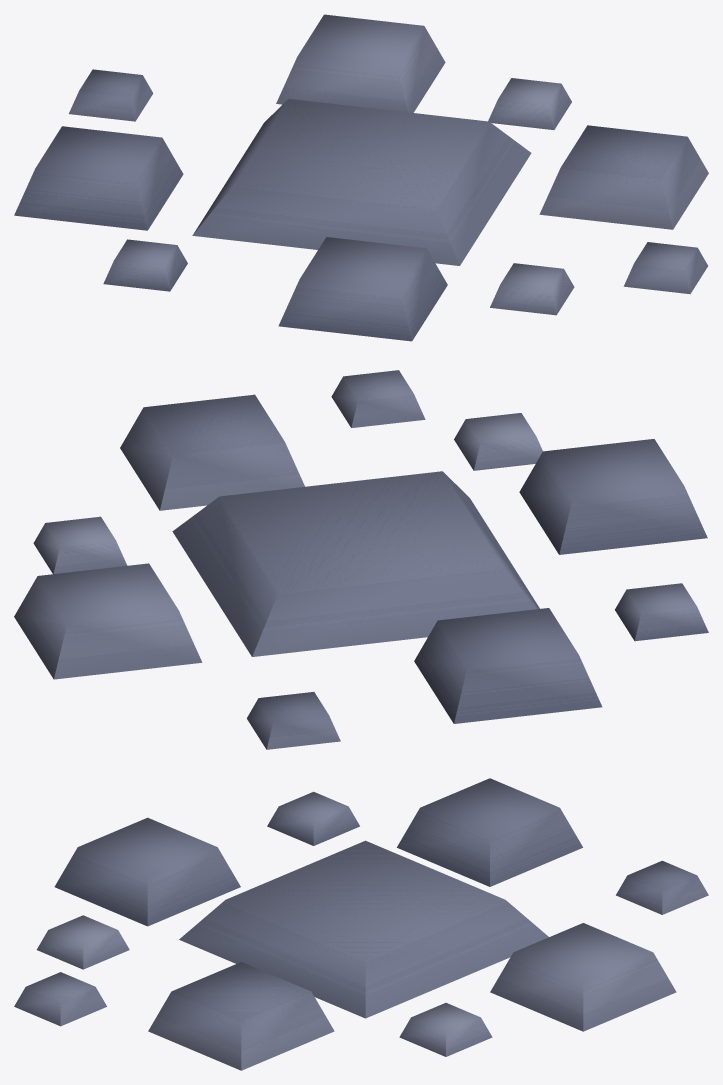
The model's file is stones.glb.
3 views of the same model, one above another, from view 1: azimuth 30°, elevation 25°; view 2: azimuth 150°, elevation 25°; view 3: azimuth 270°, elevation 25° (orthographic). The views are drawn at different scales.
Parts seen in each view (by area): view 1: stones; view 2: stones; view 3: stones.
Boxes of the visible parts, bbox=[...] form: stones: bbox=[14, 14, 708, 341]; stones: bbox=[14, 370, 708, 749]; stones: bbox=[14, 778, 708, 1070].
Bounding box in the file's own units: 0.7102 × 0.05 × 0.7897.
1 material, 1 textured.
